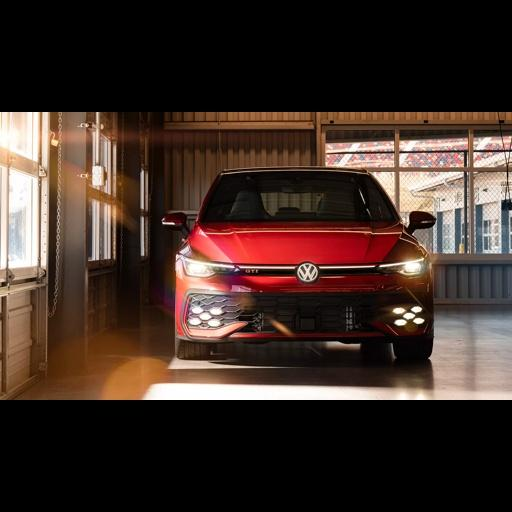hatchback: (163, 166, 435, 358)
